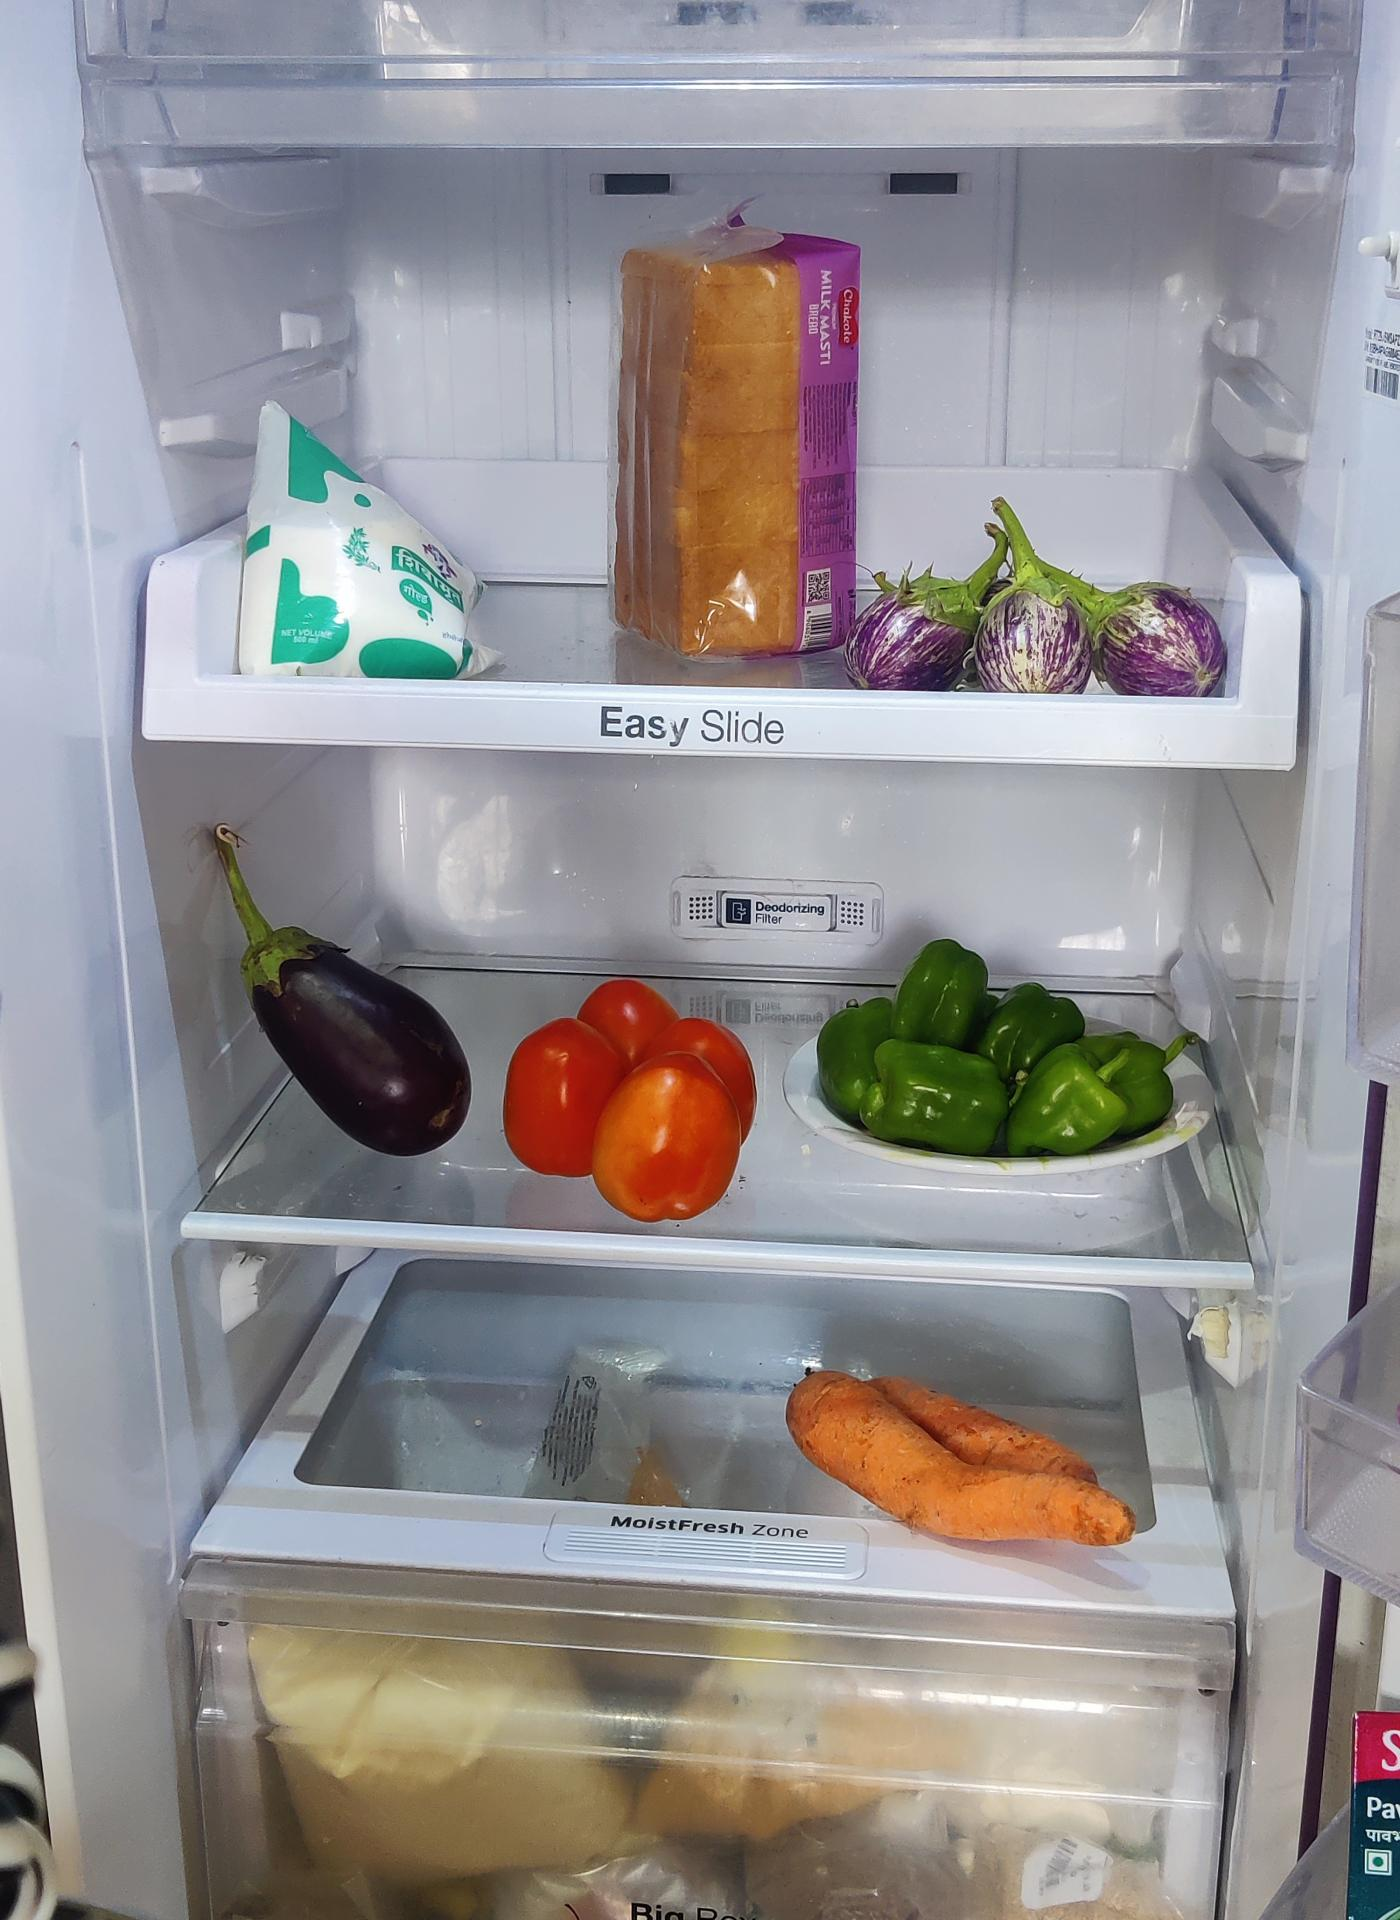bread: (602, 216, 871, 659)
brinjal: (234, 871, 468, 1161), (856, 510, 1221, 693)
capsicum: (811, 938, 1191, 1161)
carrots: (786, 1364, 1141, 1556)
milk: (234, 395, 491, 674)
tomato: (502, 969, 759, 1212)
